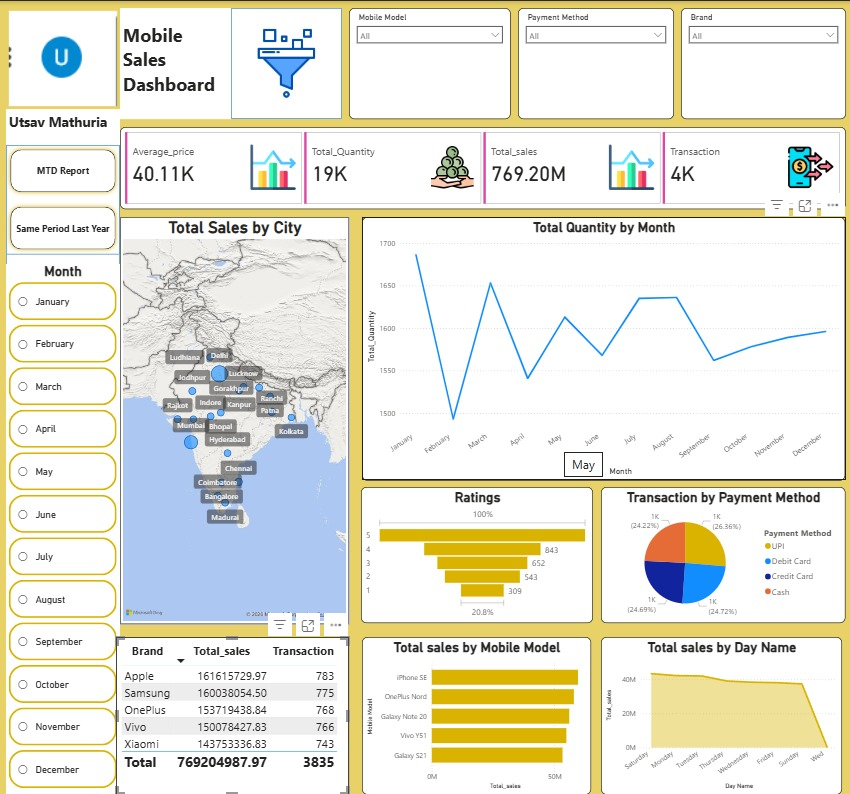

What the dashboard file says about the page in this screenshot:
{"tool":"powerbi","page":{"name":"Dashboard","canvas":[1500,1400],"ordinal":0},"visuals":[{"type":"image","box":[10.8,12.6,201,177.6],"z":0},{"type":"textbox","box":[10.7,189.9,200.6,64.3],"z":1000},{"type":"shape","box":[10.8,423.4,201,976.1],"z":2000},{"type":"shape","box":[10.7,254.2,200.6,192.9],"z":3000},{"type":"cardVisual","fields":{"Data":["Mobile_Sales_data.Average_price","Mobile_Sales_data.Total_Quantity","Mobile_Sales_data.Total_sales","Mobile_Sales_data.Transaction"]},"box":[211.6,222.2,1280.1,144.6],"z":4000},{"type":"textbox","box":[211.7,12.6,195.6,195.6],"z":5000},{"type":"shape","box":[407.3,12.6,195.6,195.6],"z":6000},{"type":"image","box":[428.8,43.1,152.5,134.6],"z":7000},{"type":"slicer","fields":{"Values":["Mobile_Sales_data.Mobile Model"]},"box":[615.4,12.6,285.3,195.6],"z":8000},{"type":"slicer","fields":{"Values":["Mobile_Sales_data.Payment Method"]},"box":[913.3,12.6,274.5,195.6],"z":9000},{"type":"slicer","fields":{"Values":["Mobile_Sales_data.Brand"]},"box":[1200.4,12.6,290.7,195.6],"z":10000},{"type":"map","title":"Total Sales by City","fields":{"Category":["Mobile_Sales_data.City"],"Size":["Mobile_Sales_data.Total_sales"]},"box":[211.7,380.4,403.7,717.7],"z":11000},{"type":"lineChart","title":"Total Quantity by Month","fields":{"Category":["Custom_Calender.Column1.Variation.Date Hierarchy.Month"],"Y":["Mobile_Sales_data.Total_Quantity"]},"box":[638.8,380.4,852.3,464.7],"z":12000},{"type":"funnel","title":"Ratings","fields":{"Category":["Mobile_Sales_data.Customer Ratings"],"Y":["CountNonNull(Mobile_Sales_data.Customer Age)"]},"box":[637,857.7,409.1,240.4],"z":13000},{"type":"pieChart","fields":{"Category":["Mobile_Sales_data.Payment Method"],"Y":["Mobile_Sales_data.Transaction"]},"box":[1060.4,857.7,430.6,240.4],"z":14000},{"type":"clusteredBarChart","title":"Total sales by Mobile Model","fields":{"Y":["Mobile_Sales_data.Total_sales"],"Category":["Mobile_Sales_data.Mobile Model"]},"box":[638.8,1121.4,403.7,278.1],"z":15000},{"type":"areaChart","title":"Total sales by Day Name","fields":{"Y":["Mobile_Sales_data.Total_sales"],"Category":["Mobile_Sales_data.Day Name"]},"box":[1060.4,1121.4,425.2,278.1],"z":16000},{"type":"tableEx","fields":{"Values":["Mobile_Sales_data.Brand","Mobile_Sales_data.Total_sales","Mobile_Sales_data.Transaction"]},"box":[204.5,1121.4,410.9,278.1],"z":17000},{"type":"advancedSlicerVisual","fields":{"Values":["Custom_Calender.Month"]},"box":[10.8,462.9,201,936.6],"z":18000},{"type":"pageNavigator","box":[10.6,253.9,201,192.2],"z":18001}]}

Visuals, with their boxes in screenshot pixels (x1, y1, x2, y2), scaled from the page's 1500x1400 canvas onto the 850x794 screenshot:
image: select_region(6, 7, 120, 108)
textbox: select_region(6, 108, 120, 144)
shape: select_region(6, 240, 120, 793)
shape: select_region(6, 144, 120, 254)
cardVisual - Mobile_Sales_data.Average_price x Mobile_Sales_data.Total_Quantity: select_region(120, 126, 845, 208)
textbox: select_region(120, 7, 231, 118)
shape: select_region(231, 7, 342, 118)
image: select_region(243, 24, 329, 101)
slicer - Mobile_Sales_data.Mobile Model: select_region(349, 7, 510, 118)
slicer - Mobile_Sales_data.Payment Method: select_region(518, 7, 673, 118)
slicer - Mobile_Sales_data.Brand: select_region(680, 7, 845, 118)
"Total Sales by City" map: select_region(120, 216, 349, 623)
"Total Quantity by Month" lineChart: select_region(362, 216, 845, 479)
"Ratings" funnel: select_region(361, 486, 593, 623)
pieChart - Mobile_Sales_data.Payment Method x Mobile_Sales_data.Transaction: select_region(601, 486, 845, 623)
"Total sales by Mobile Model" clusteredBarChart: select_region(362, 636, 591, 793)
"Total sales by Day Name" areaChart: select_region(601, 636, 842, 793)
tableEx - Mobile_Sales_data.Brand x Mobile_Sales_data.Total_sales: select_region(116, 636, 349, 793)
advancedSlicerVisual - Custom_Calender.Month: select_region(6, 263, 120, 793)
pageNavigator: select_region(6, 144, 120, 253)
